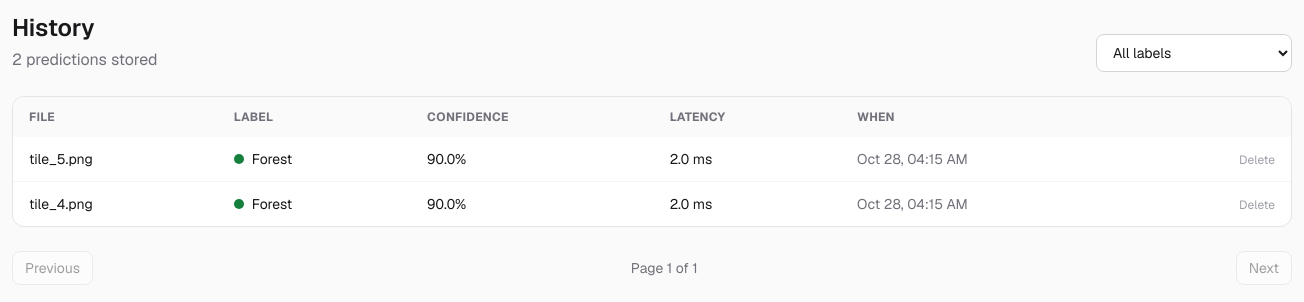
Test: deletes a row and reloads
Expected: the text "tile_5.png" is shown, [13,137,218,182]
What coordinates should you click on to do the following:
click the button "Delete" in the row of "tile_5.png"
I would click on:
 (1257, 160)
Its box is [1239,152,1275,168].
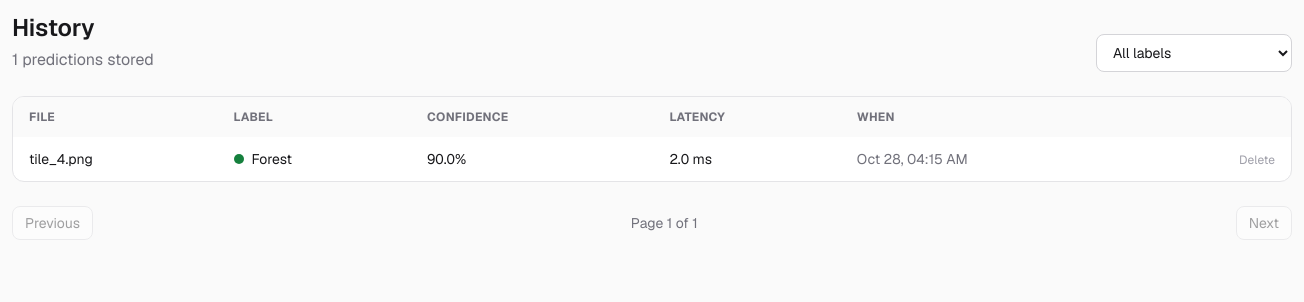
Expected: the text "tile_5.png" is gone
Expected: the text "1 predictions stored" is shown, [12,48,154,72]
